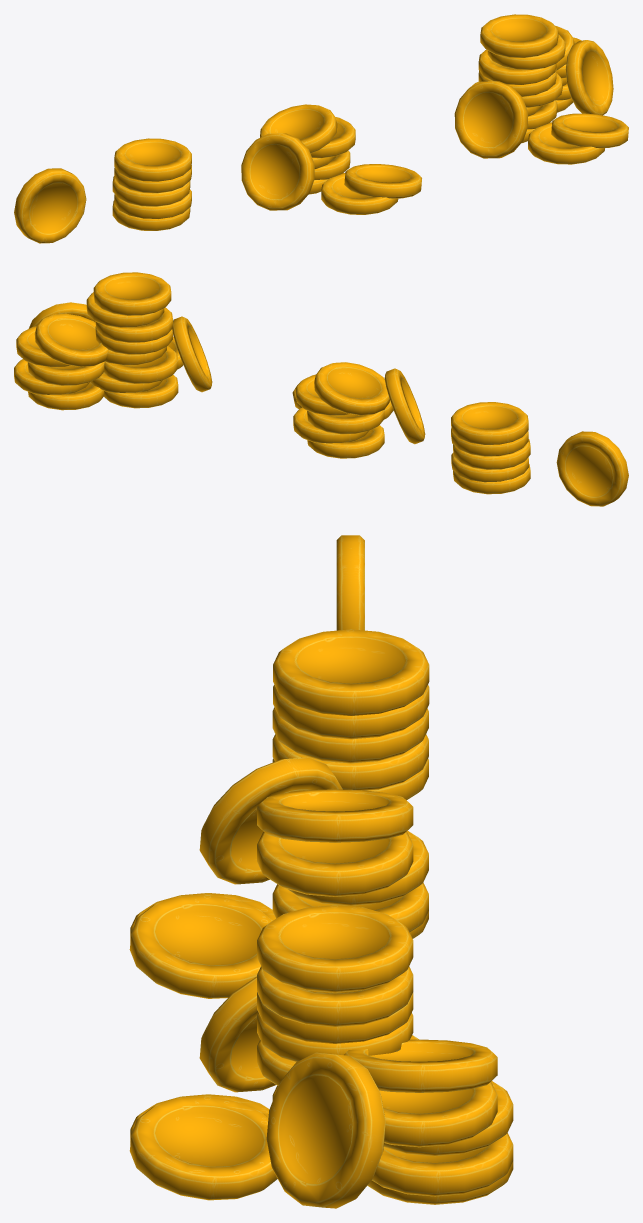
File: 3d_gold_coin_-_jb.glb
The picture shows the model from 3 angles, top to bottom: view 1: azimuth 30°, elevation 25°; view 2: azimuth 150°, elevation 25°; view 3: azimuth 270°, elevation 25°; orthographic projection. The views are drawn at different scales.
Visible parts, largest first — view 1: Object_2; view 2: Object_2; view 3: Object_2.
Boxes of the visible parts, box(x1,y1,x2,y2) form: Object_2: box(14, 14, 628, 243); Object_2: box(14, 272, 628, 506); Object_2: box(129, 535, 513, 1208).
Bounding box in the file's own units: 5.95 × 0.9746 × 1.66.
1 material, 1 textured.
